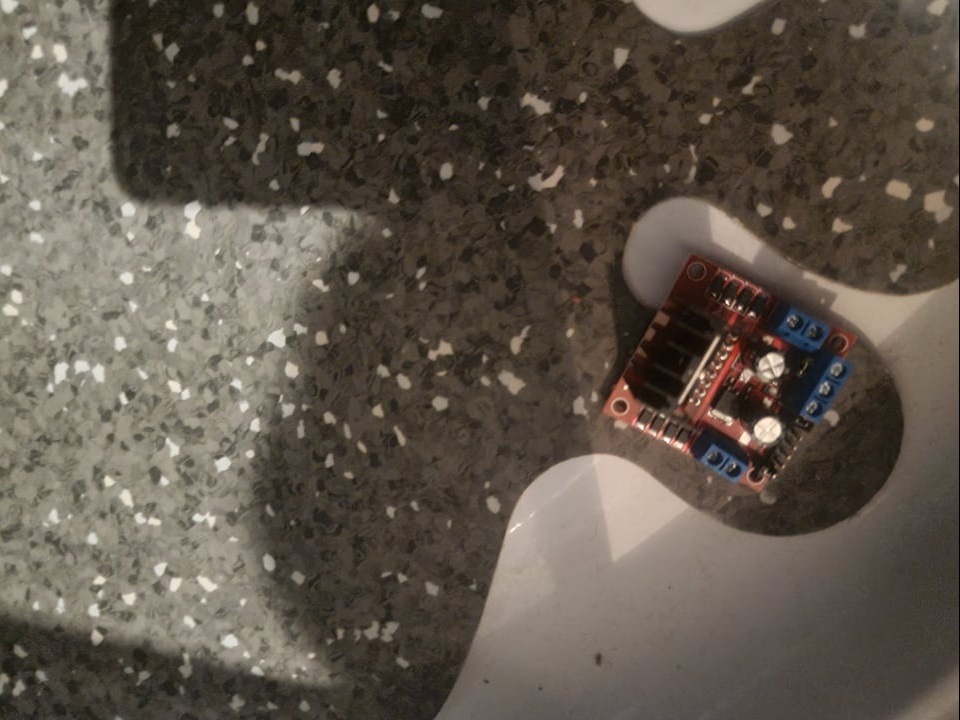MOTOR: (602, 252, 864, 491)
